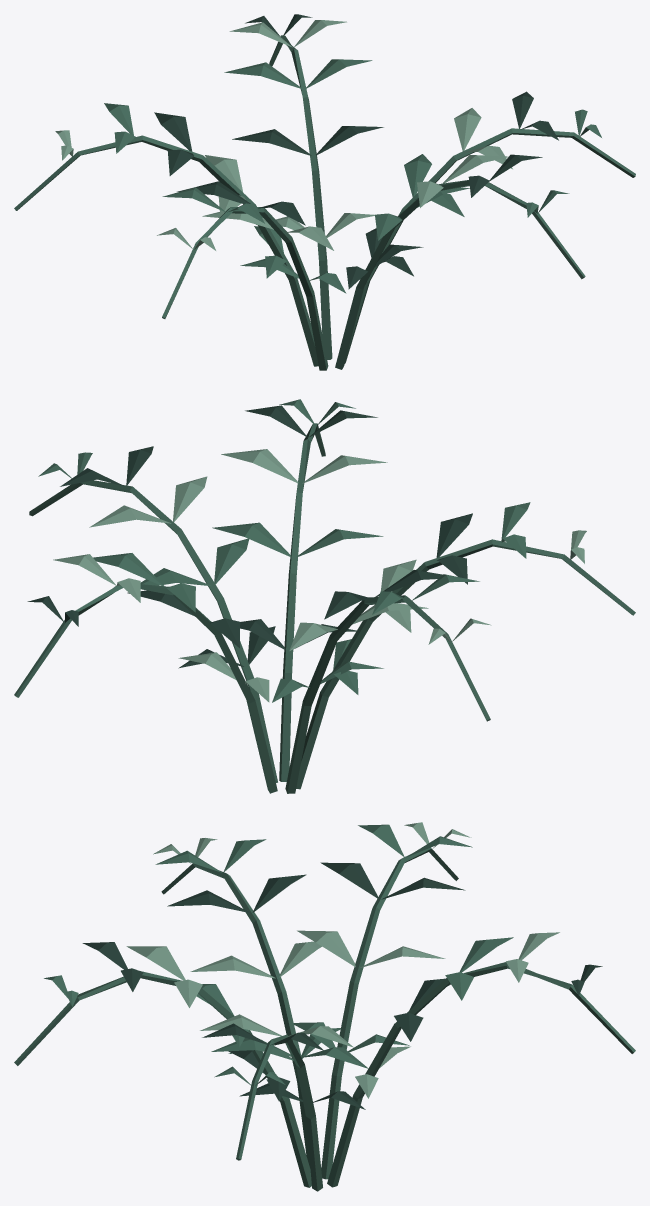
File: ALPINE_FERN.lo.glb
3 renders of one model, top to bottom at view 1: azimuth 30°, elevation 25°; view 2: azimuth 150°, elevation 25°; view 3: azimuth 270°, elevation 25°, orthographic. The views are drawn at different scales.
Visible parts, largest first — view 1: ALPINE_FERN; view 2: ALPINE_FERN; view 3: ALPINE_FERN.
Part boxes in pixels (bbox=[...]): ALPINE_FERN: bbox=[14, 14, 635, 370]; ALPINE_FERN: bbox=[14, 399, 635, 793]; ALPINE_FERN: bbox=[14, 822, 635, 1191].
Bounding box in the file's own units: 0.511 × 0.2415 × 0.5061.
Materials: 1 (1 with a texture image).
